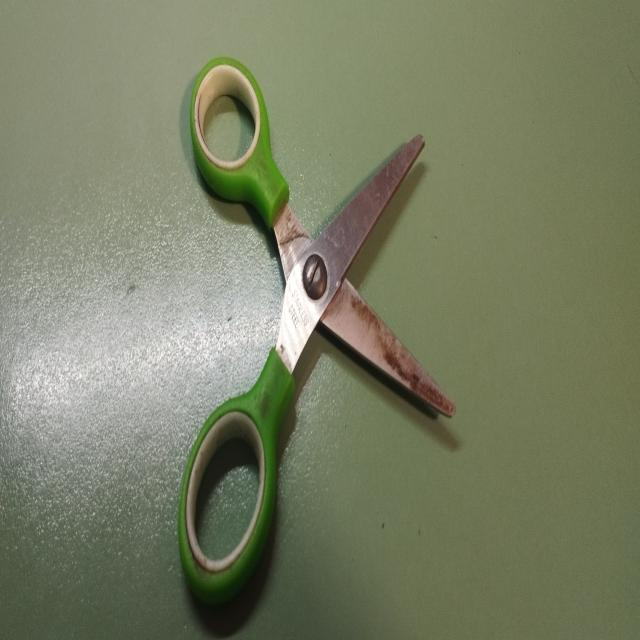tesoura: (172, 41, 460, 620)
